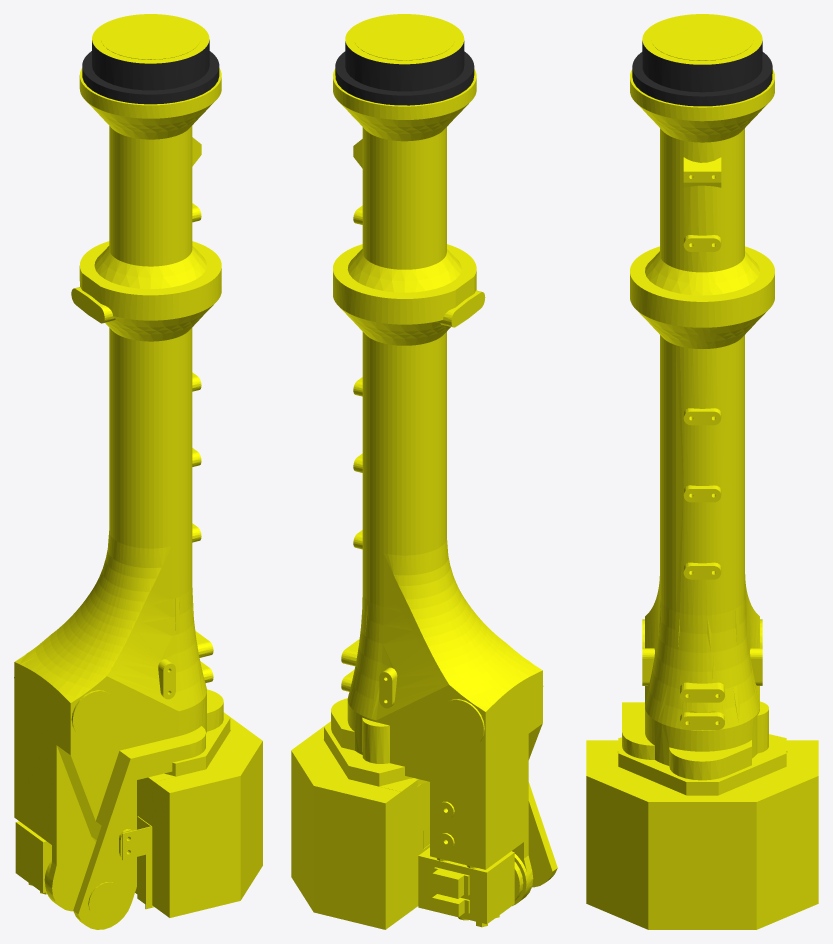
The picture shows the model from 3 angles, left to right: view 1: azimuth 30°, elevation 25°; view 2: azimuth 150°, elevation 25°; view 3: azimuth 270°, elevation 25°; orthographic projection. The views are drawn at different scales.
Parts seen in each view (by area): view 1: node; view 2: node; view 3: node.
Boxes of the visible parts, bbox=[...] form: node: bbox=[14, 14, 262, 929]; node: bbox=[291, 14, 557, 929]; node: bbox=[586, 14, 818, 929].
Size of the model in its own units: 468 by 1896 by 464.
